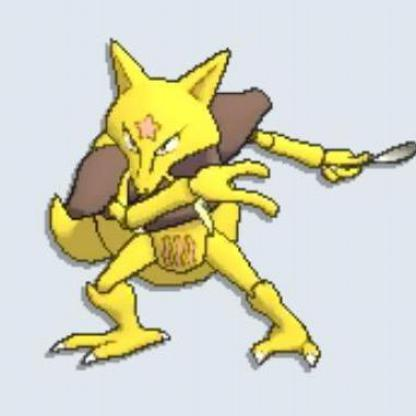Kadabra: (56, 31, 416, 367)
